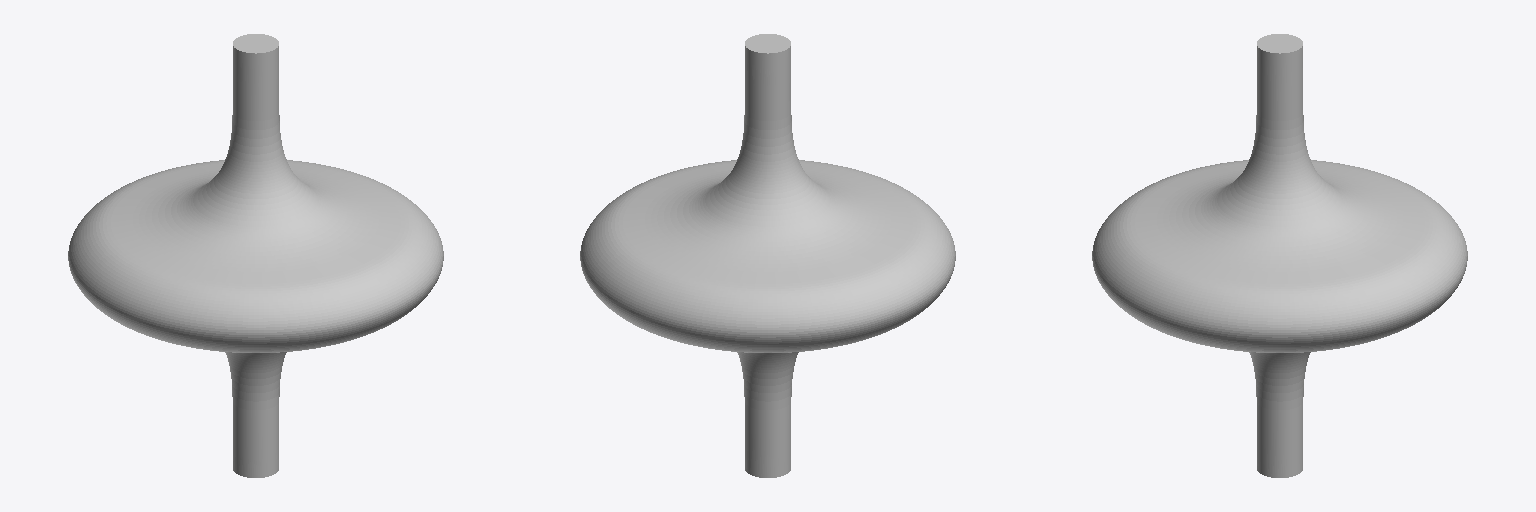
File: drop06.obj
3 views of the same model, side by side, from view 1: azimuth 30°, elevation 25°; view 2: azimuth 150°, elevation 25°; view 3: azimuth 270°, elevation 25° (orthographic).
Visible parts, largest first — view 1: 190708_Ether_100type_drop6; view 2: 190708_Ether_100type_drop6; view 3: 190708_Ether_100type_drop6.
Part boxes in pixels (x1,y1,x2,y2): 190708_Ether_100type_drop6: (68,34,443,477); 190708_Ether_100type_drop6: (580,34,955,477); 190708_Ether_100type_drop6: (1092,34,1467,477).
Size of the model in its own units: 0.8013 by 1 by 0.8013.